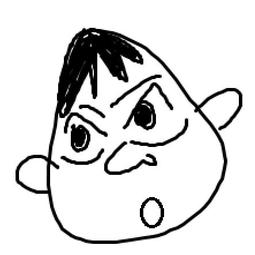ear: (199, 79, 246, 131), (9, 149, 50, 203)
eye: (119, 82, 189, 151), (59, 113, 106, 171)
frowning_eyebrow: (108, 75, 163, 111), (78, 103, 107, 120)
nose: (97, 140, 160, 174)
open_mouth: (133, 192, 167, 231)
